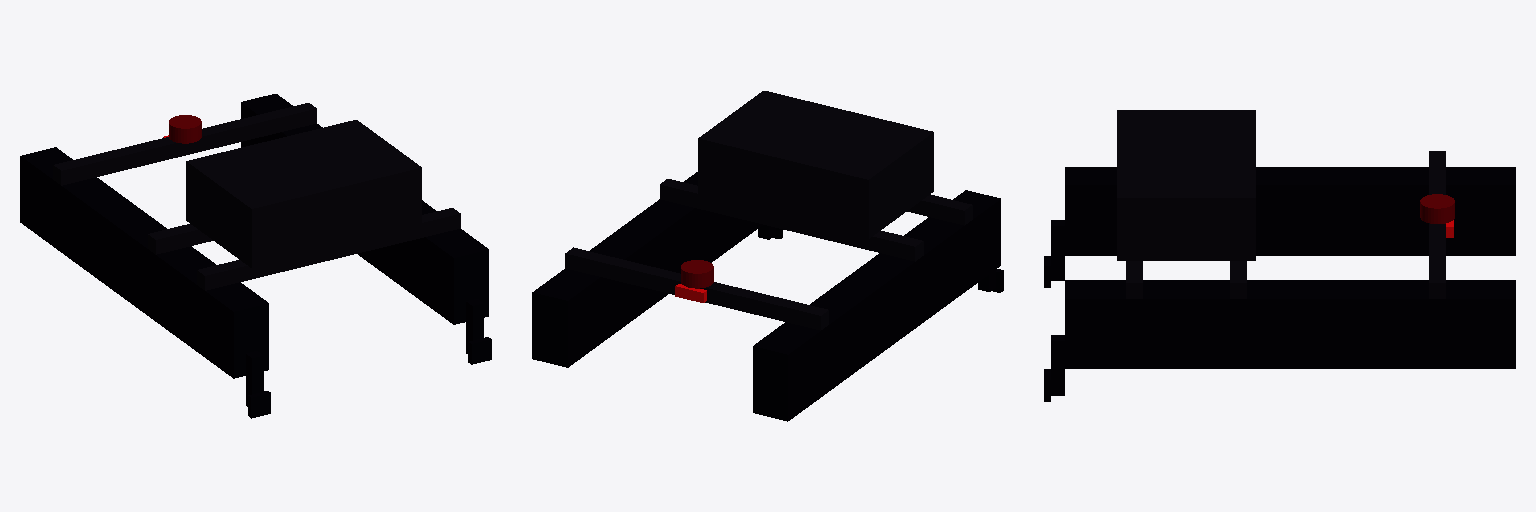
robot.urdf — robot:
<robot name="robot">
  <link name="base_footprint"></link>
  <joint name="base_joint" type="fixed">
    <parent link="base_footprint" />
    <child link="base_link" />
    <origin xyz="0 0 0" rpy="0 0 0" />
  </joint>
  <link name="base_link">
    <visual>
      <origin xyz="0 0 0" rpy="0 0 0" />
      <geometry>
        <box size="0.6 0.4 0.2" />
      </geometry>
      <material name="base_link-material">
        <color rgba="0.04666508633021928 0.03954623527052923 0.061246054224174035 1" />
      </material>
    </visual>
    <collision>
      <origin xyz="0 0 0" rpy="0 0 0" />
      <geometry>
        <box size="0.6 0.4 0.2" />
      </geometry>
    </collision>
    <inertial>
      <origin xyz="0 0 0" rpy="0 0 0" />
      <mass value="20" />
      <inertia ixx="3.333333333333333" ixy="0" ixz="0" iyy="3.333333333333333" iyz="0" izz="3.333333333333333" />
    </inertial>
  </link>
  <joint name="base_link_to_tuppy_back_rail" type="fixed">
    <parent link="base_link" />
    <child link="tuppy_back_rail" />
    <origin xyz="0 -0.15 -0.125" rpy="0 0 0" />
  </joint>
  <link name="tuppy_back_rail">
    <visual>
      <origin xyz="0 0 0" rpy="0 0 0" />
      <geometry>
        <box size="0.9 0.05 0.05" />
      </geometry>
      <material name="tuppy_back_rail-material">
        <color rgba="0.04666508633021928 0.03954623527052923 0.061246054224174035 1" />
      </material>
    </visual>
    <collision>
      <origin xyz="0 0 0" rpy="0 0 0" />
      <geometry>
        <box size="0.9 0.05 0.05" />
      </geometry>
    </collision>
    <inertial>
      <origin xyz="0 0 0" rpy="0 0 0" />
      <mass value="5" />
      <inertia ixx="0.8333333333333333" ixy="0" ixz="0" iyy="0.8333333333333333" iyz="0" izz="0.8333333333333333" />
    </inertial>
  </link>
  <joint name="base_link_to_tuppy_front_rail" type="fixed">
    <parent link="base_link" />
    <child link="tuppy_front_rail" />
    <origin xyz="0 0.15 -0.125" rpy="0 0 0" />
  </joint>
  <link name="tuppy_front_rail">
    <visual>
      <origin xyz="0 0 0" rpy="0 0 0" />
      <geometry>
        <box size="0.9 0.05 0.05" />
      </geometry>
      <material name="tuppy_front_rail-material">
        <color rgba="0.04666508633021928 0.03954623527052923 0.061246054224174035 1" />
      </material>
    </visual>
    <collision>
      <origin xyz="0 0 0" rpy="0 0 0" />
      <geometry>
        <box size="0.9 0.05 0.05" />
      </geometry>
    </collision>
    <inertial>
      <origin xyz="0 0 0" rpy="0 0 0" />
      <mass value="5" />
      <inertia ixx="0.8333333333333333" ixy="0" ixz="0" iyy="0.8333333333333333" iyz="0" izz="0.8333333333333333" />
    </inertial>
  </link>
  <joint name="base_link_to_right_hull" type="fixed">
    <parent link="base_link" />
    <child link="right_hull" />
    <origin xyz="0.3875 0.3 -0.2625" rpy="0 0 0" />
  </joint>
  <link name="right_hull">
    <visual>
      <origin xyz="0 0 0" rpy="0 0 0" />
      <geometry>
        <box size="0.125 1.3 0.225" />
      </geometry>
      <material name="right_hull-material">
        <color rgba="0.01764195448412081 0.013702083043526807 0.030713443727452196 1" />
      </material>
    </visual>
    <collision>
      <origin xyz="0 0 0" rpy="0 0 0" />
      <geometry>
        <box size="0.125 1.3 0.225" />
      </geometry>
    </collision>
    <inertial>
      <origin xyz="0 0 0" rpy="0 0 0" />
      <mass value="150" />
      <inertia ixx="25" ixy="0" ixz="0" iyy="25" iyz="0" izz="25" />
    </inertial>
  </link>
  <joint name="right_hull_to_right_thruster_mount" type="fixed">
    <parent link="right_hull" />
    <child link="right_thruster_mount" />
    <origin xyz="0 -0.670125 -0.13" rpy="0 0 0" />
  </joint>
  <link name="right_thruster_mount">
    <visual>
      <origin xyz="0 0 0" rpy="0 0 0" />
      <geometry>
        <box size="0.04 0.04 0.175" />
      </geometry>
      <material name="right_thruster_mount-material">
        <color rgba="0.01764195448412081 0.013702083043526807 0.030713443727452196 1" />
      </material>
    </visual>
    <inertial>
      <origin xyz="0 0 0" rpy="0 0 0" />
      <mass value="1" />
      <inertia ixx="0.16666666666666666" ixy="0" ixz="0" iyy="0.16666666666666666" iyz="0" izz="0.16666666666666666" />
    </inertial>
  </link>
  <joint name="right_thruster_mount_to_right_thruster" type="fixed">
    <parent link="right_thruster_mount" />
    <child link="right_thruster" />
    <origin xyz="0 -0.029874999999999985 -0.06351779898061413" rpy="0 0 0" />
  </joint>
  <link name="right_thruster">
    <visual>
      <origin xyz="0 0 0" rpy="0 0 0" />
      <geometry>
        <box size="0.07 0.02 0.07" />
      </geometry>
      <material name="right_thruster-material">
        <color rgba="0.01764195448412081 0.013702083043526807 0.030713443727452196 1" />
      </material>
    </visual>
    <inertial>
      <origin xyz="0 0 0" rpy="0 0 0" />
      <mass value="1" />
      <inertia ixx="0.16666666666666666" ixy="0" ixz="0" iyy="0.16666666666666666" iyz="0" izz="0.16666666666666666" />
    </inertial>
  </link>
  <joint name="base_link_to_left_hull" type="fixed">
    <parent link="base_link" />
    <child link="left_hull" />
    <origin xyz="-0.3875 0.3 -0.2625" rpy="0 0 0" />
  </joint>
  <link name="left_hull">
    <visual>
      <origin xyz="0 0 0" rpy="0 0 0" />
      <geometry>
        <box size="0.125 1.3 0.225" />
      </geometry>
      <material name="left_hull-material">
        <color rgba="0.01764195448412081 0.013702083043526807 0.030713443727452196 1" />
      </material>
    </visual>
    <collision>
      <origin xyz="0 0 0" rpy="0 0 0" />
      <geometry>
        <box size="0.125 1.3 0.225" />
      </geometry>
    </collision>
    <inertial>
      <origin xyz="0 0 0" rpy="0 0 0" />
      <mass value="150" />
      <inertia ixx="25" ixy="0" ixz="0" iyy="25" iyz="0" izz="25" />
    </inertial>
  </link>
  <joint name="left_hull_to_left_thruster_mount" type="fixed">
    <parent link="left_hull" />
    <child link="left_thruster_mount" />
    <origin xyz="0 -0.670125 -0.125" rpy="0 0 0" />
  </joint>
  <link name="left_thruster_mount">
    <visual>
      <origin xyz="0 0 0" rpy="0 0 0" />
      <geometry>
        <box size="0.04 0.04 0.175" />
      </geometry>
      <material name="left_thruster_mount-material">
        <color rgba="0.01764195448412081 0.013702083043526807 0.030713443727452196 1" />
      </material>
    </visual>
    <inertial>
      <origin xyz="0 0 0" rpy="0 0 0" />
      <mass value="1" />
      <inertia ixx="0.16666666666666666" ixy="0" ixz="0" iyy="0.16666666666666666" iyz="0" izz="0.16666666666666666" />
    </inertial>
  </link>
  <joint name="left_thruster_mount_to_left_thruster" type="fixed">
    <parent link="left_thruster_mount" />
    <child link="left_thruster" />
    <origin xyz="0 -0.029874999999999985 -0.06851779898061414" rpy="0 0 0" />
  </joint>
  <link name="left_thruster">
    <visual>
      <origin xyz="0 0 0" rpy="0 0 0" />
      <geometry>
        <box size="0.07 0.02 0.07" />
      </geometry>
      <material name="left_thruster-material">
        <color rgba="0.01764195448412081 0.013702083043526807 0.030713443727452196 1" />
      </material>
    </visual>
    <inertial>
      <origin xyz="0 0 0" rpy="0 0 0" />
      <mass value="1" />
      <inertia ixx="0.16666666666666666" ixy="0" ixz="0" iyy="0.16666666666666666" iyz="0" izz="0.16666666666666666" />
    </inertial>
  </link>
  <joint name="base_link_to_sensor_rail" type="fixed">
    <parent link="base_link" />
    <child link="sensor_rail" />
    <origin xyz="0 0.725 -0.125" rpy="0 0 0" />
  </joint>
  <link name="sensor_rail">
    <visual>
      <origin xyz="0 0 0" rpy="0 0 0" />
      <geometry>
        <box size="0.9 0.05 0.05" />
      </geometry>
      <material name="sensor_rail-material">
        <color rgba="0.04666508633021928 0.03954623527052923 0.061246054224174035 1" />
      </material>
    </visual>
    <collision>
      <origin xyz="0 0 0" rpy="0 0 0" />
      <geometry>
        <box size="0.9 0.05 0.05" />
      </geometry>
    </collision>
    <inertial>
      <origin xyz="0 0 0" rpy="0 0 0" />
      <mass value="10" />
      <inertia ixx="1.6666666666666665" ixy="0" ixz="0" iyy="1.6666666666666665" iyz="0" izz="1.6666666666666665" />
    </inertial>
  </link>
  <joint name="sensor_rail_to_lidar" type="fixed">
    <parent link="sensor_rail" />
    <child link="lidar" />
    <origin xyz="0 0 0.05" rpy="0 0 0" />
  </joint>
  <link name="lidar">
    <visual>
      <origin xyz="0 0 0" rpy="0 0 0" />
      <geometry>
        <cylinder radius="0.05" length="0.05" />
      </geometry>
      <material name="lidar-material">
        <color rgba="0.37626212298046485 0.012286488353353374 0.026241221889696346 1" />
      </material>
    </visual>
    <collision>
      <origin xyz="0 0 0" rpy="0 0 0" />
      <geometry>
        <cylinder radius="0.05" length="0.05" />
      </geometry>
    </collision>
    <inertial>
      <origin xyz="0 0 0" rpy="0 0 0" />
      <mass value="1" />
      <inertia ixx="0.3333333333333333" ixy="0" ixz="0" iyy="0.5" iyz="0" izz="0.3333333333333333" />
    </inertial>

        <sensor type="lidar" name="lidar">
            <always_on>true</always_on>
            <update_rate>5</update_rate>
            <origin>0 0 0.05 0 0 0</origin>
            <ray>
                <scan>
                    <horizontal>
                        <samples>360</samples>
                        <resolution>1</resolution>
                        <min_angle>0</min_angle>
                        <max_angle>6.28</max_angle>
                    </horizontal>
                    <range>
                        <min>0.12</min>
                        <max>3.5</max>
                        <resolution>0.015</resolution>
                    </range>
                </scan>
                <noise>
                    <type>gaussian</type>
                    <mean>0</mean>
                    <stddev>0.01</stddev>
                </noise>
            </ray>
        </sensor>
      </link>
  <joint name="sensor_rail_to_cube1" type="fixed">
    <parent link="sensor_rail" />
    <child link="cube1" />
    <origin xyz="0 0.035 0" rpy="0 0 0" />
  </joint>
  <link name="cube1">
    <visual>
      <origin xyz="0 0 0" rpy="0 0 0" />
      <geometry>
        <box size="0.1 0.025 0.035" />
      </geometry>
      <material name="cube1-material">
        <color rgba="0.8468732315065057 0.033104766565152086 0.04373502925049377 1" />
      </material>
    </visual>
    <collision>
      <origin xyz="0 0 0" rpy="0 0 0" />
      <geometry>
        <box size="0.1 0.025 0.035" />
      </geometry>
    </collision>
    <inertial>
      <origin xyz="0 0 0" rpy="0 0 0" />
      <mass value="1" />
      <inertia ixx="0.16666666666666666" ixy="0" ixz="0" iyy="0.16666666666666666" iyz="0" izz="0.16666666666666666" />
    </inertial>

        <sensor name="camera" type="camera">
            <always_on>true</always_on>
            <update_rate>100</update_rate>
            <origin>0 0.035 0 0 0 0</origin>
            <camera>
                <horizontal_fov>1.3962634</horizontal_fov>
                <image>
                    <width>800</width>
                    <height>600</height>
                    <format>R8G8B8</format>
                </image>
                <clip>
                    <near>0.1</near>
                    <far>100</far>
                </clip>
                <noise>
                    <type>gaussian</type>
                    <mean>0.01</mean>
                </noise>
            </camera>
        </sensor>
      </link>
</robot>

--- Render facts (derived) ---
3 views of the same robot in one strip: view 1: azimuth 30°, elevation 25°; view 2: azimuth 150°, elevation 25°; view 3: azimuth 270°, elevation 25° (orthographic).
Robot: robot — 13 links, 12 joints (12 fixed); root link base_footprint; default pose: all joints at 0.
Visible links, largest first — view 1: base_link, left_hull, right_hull, sensor_rail, tuppy_back_rail, tuppy_front_rail, lidar, left_thruster_mount, right_thruster_mount, right_thruster, left_thruster; view 2: base_link, left_hull, right_hull, sensor_rail, tuppy_front_rail, tuppy_back_rail, lidar; view 3: right_hull, left_hull, base_link, sensor_rail, lidar, right_thruster_mount, left_thruster_mount, tuppy_back_rail, tuppy_front_rail.
Link boxes in pixels (x1=…): base_link: x1=186, y1=120, x2=421, y2=267; left_hull: x1=20, y1=147, x2=268, y2=378; right_hull: x1=241, y1=94, x2=488, y2=324; sensor_rail: x1=53, y1=103, x2=316, y2=185; tuppy_back_rail: x1=197, y1=208, x2=460, y2=290; tuppy_front_rail: x1=148, y1=224, x2=212, y2=254; lidar: x1=169, y1=115, x2=201, y2=143; left_thruster_mount: x1=246, y1=351, x2=263, y2=406; right_thruster_mount: x1=466, y1=299, x2=483, y2=353; right_thruster: x1=468, y1=337, x2=491, y2=364; left_thruster: x1=248, y1=391, x2=270, y2=418; base_link: x1=698, y1=91, x2=933, y2=238; left_hull: x1=753, y1=190, x2=1000, y2=421; right_hull: x1=532, y1=172, x2=762, y2=367; sensor_rail: x1=565, y1=247, x2=828, y2=330; tuppy_front_rail: x1=660, y1=179, x2=923, y2=261; tuppy_back_rail: x1=907, y1=194, x2=972, y2=225; lidar: x1=681, y1=260, x2=713, y2=288; right_hull: x1=1065, y1=280, x2=1515, y2=368; left_hull: x1=1065, y1=167, x2=1515, y2=255; base_link: x1=1117, y1=110, x2=1255, y2=260; sensor_rail: x1=1429, y1=151, x2=1445, y2=298; lidar: x1=1420, y1=194, x2=1454, y2=223; right_thruster_mount: x1=1051, y1=335, x2=1064, y2=395; left_thruster_mount: x1=1051, y1=220, x2=1064, y2=280; tuppy_back_rail: x1=1126, y1=261, x2=1142, y2=298; tuppy_front_rail: x1=1230, y1=261, x2=1246, y2=298.
Size in the robot's own frame: 0.9 by 1.36 by 0.591 metres.
Geometry: primitives only (box / cylinder / sphere), no mesh files.
